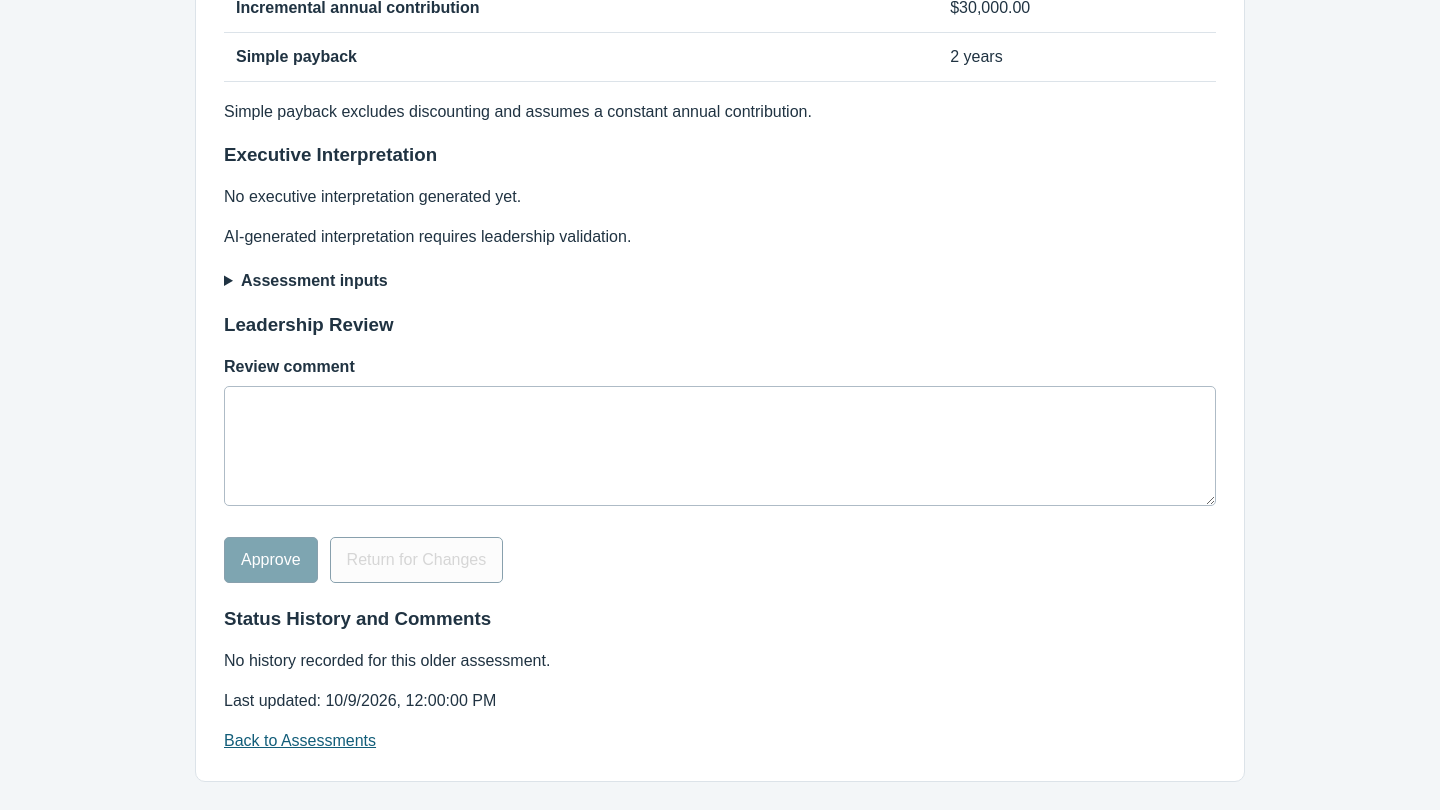
Test: StratSight assessment interface › requires a director comment and sends the return decision
(page scrolled)
Expected: the button "Return for Changes" is disabled, x1=330 y1=537 x2=503 y2=583
Type "Please validate the projected volume." into the text box labelled "Review comment". click: {"x": 720, "y": 446}
box: x1=224 y1=386 x2=1216 y2=506
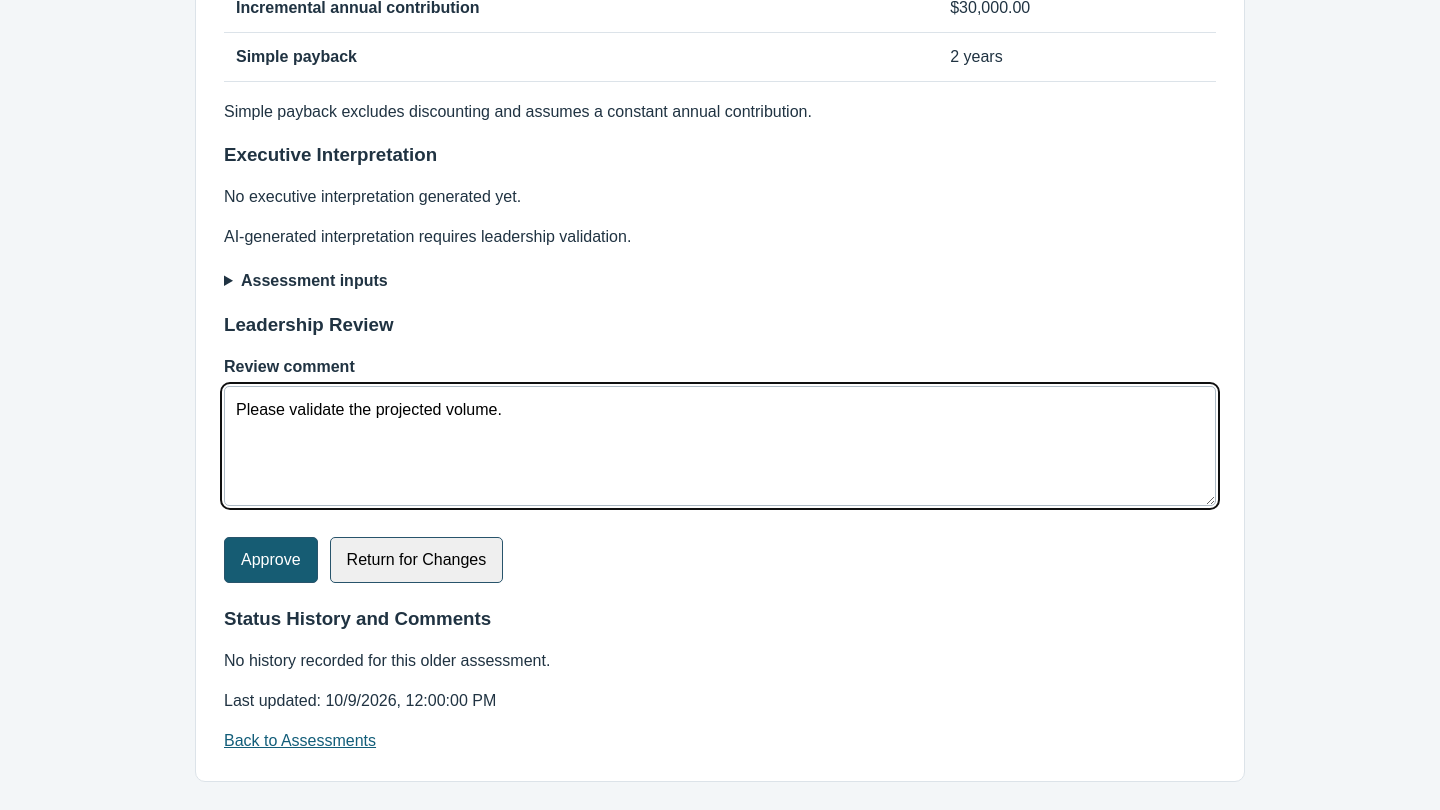
Click the button "Return for Changes". click: {"x": 416, "y": 560}
box: x1=330 y1=537 x2=503 y2=583
(page scrolled)
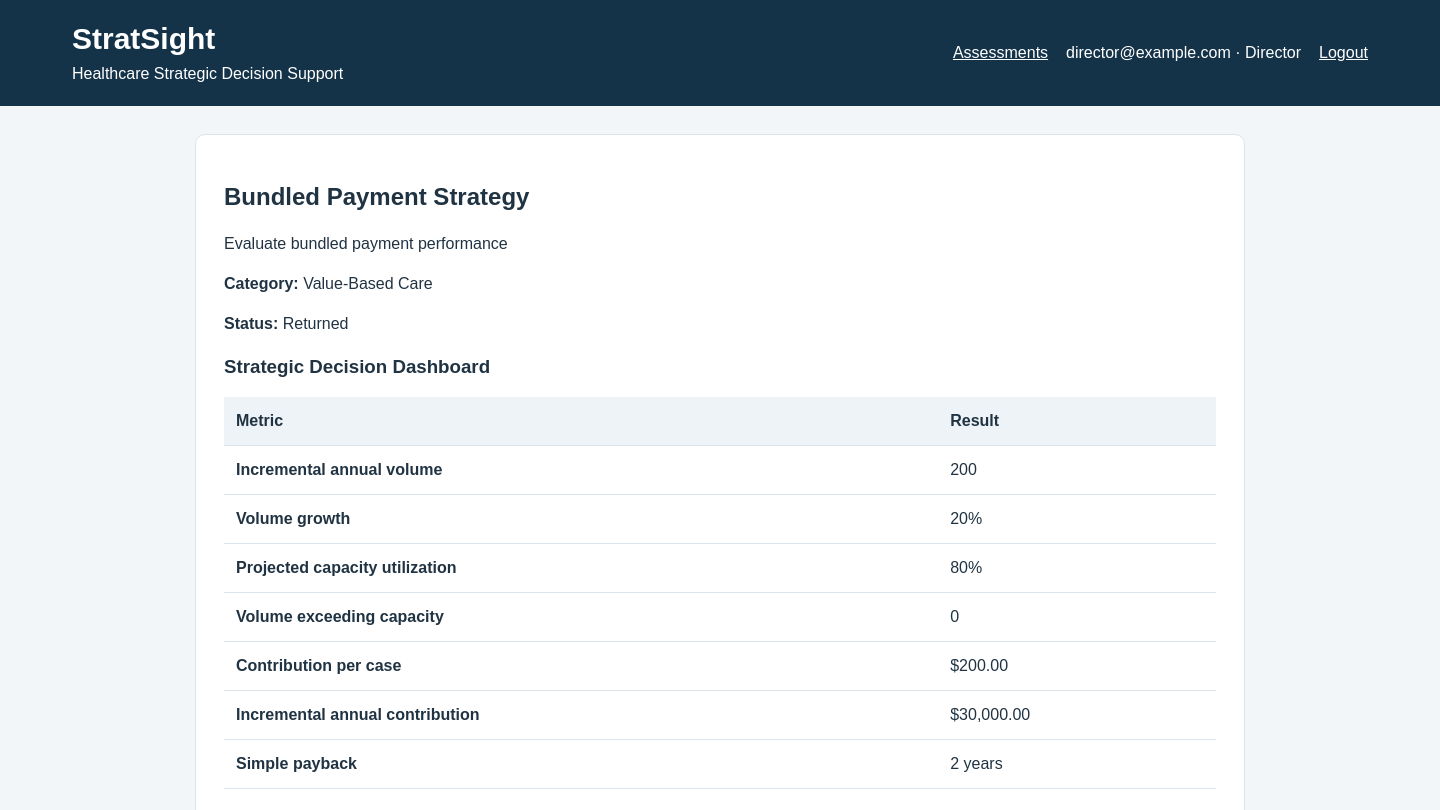
Now the text "Returned" is shown, box x1=283 y1=315 x2=348 y2=332
